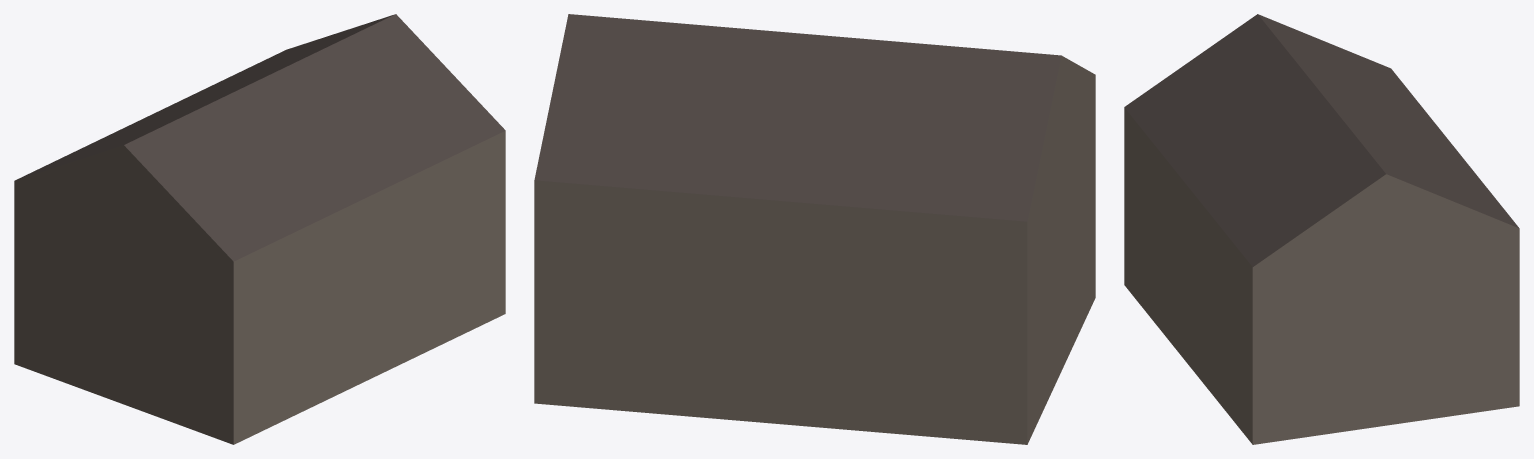
3 renders of one model, left to right at view 1: azimuth 30°, elevation 25°; view 2: azimuth 150°, elevation 25°; view 3: azimuth 270°, elevation 25°, orthographic. The views are drawn at different scales.
Visible parts, largest first — view 1: HP-w1198020606; view 2: HP-w1198020606; view 3: HP-w1198020606.
Part boxes in pixels (bbox=[...]): HP-w1198020606: bbox=[14, 14, 505, 444]; HP-w1198020606: bbox=[534, 14, 1095, 444]; HP-w1198020606: bbox=[1124, 14, 1519, 444].
Size of the model in its own units: 14.4 by 8.49 by 12.11.
